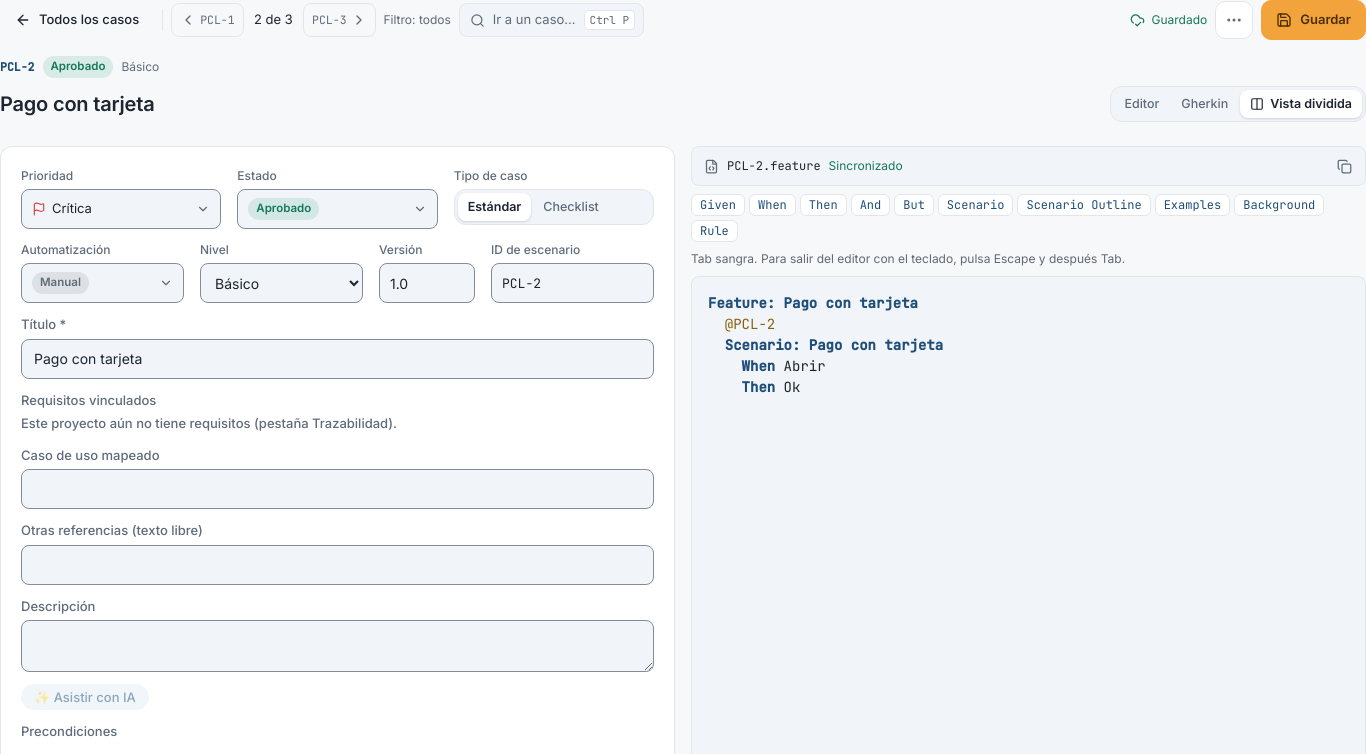
Scenario: Casos · editor navigation (RED-V3) › opens from ?case= and walks the list order
The image size is (1366, 754).
expect the text "2 de 3" is shown: met, box [254,11,293,27]
expect the heading "Pago con tarjeta" is shown: met, box [0,92,154,116]
Step 1. Click the button with aria-label "Caso siguiente" → (339, 20), box [303,3,376,37]
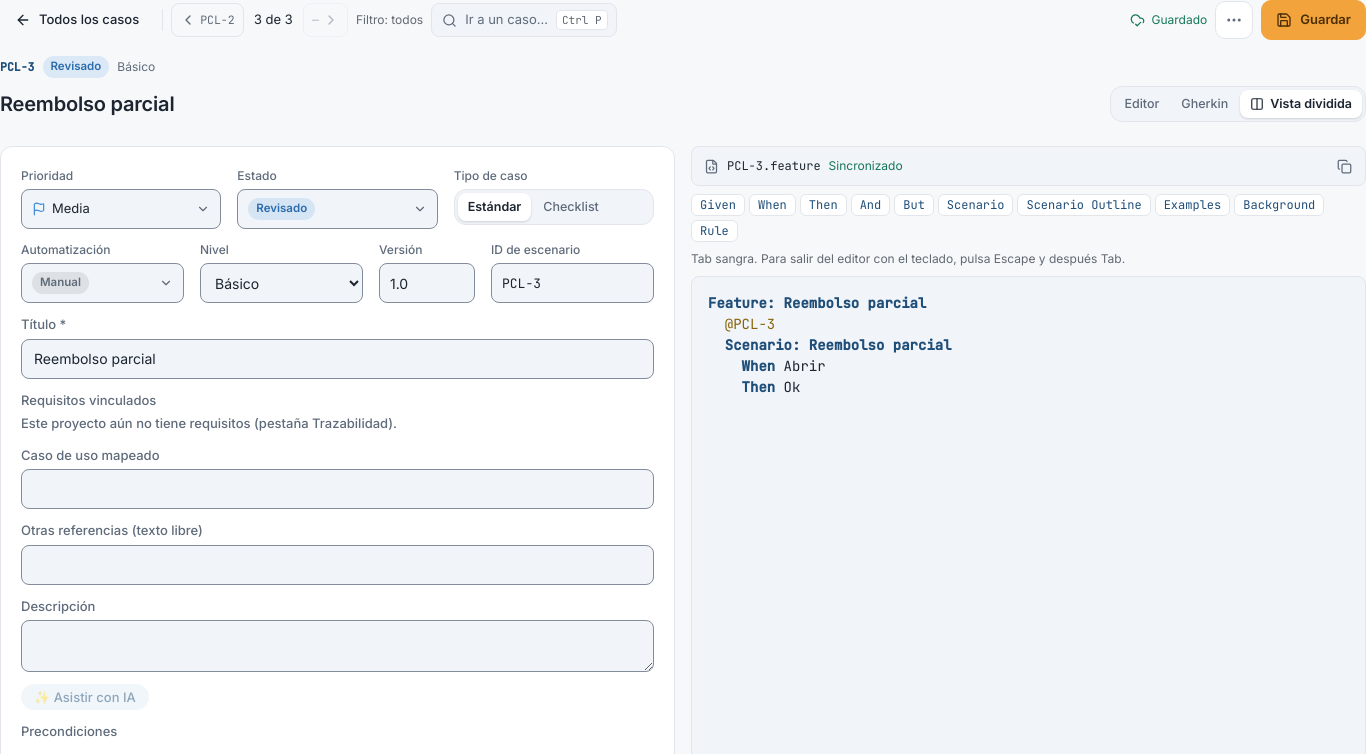
expect the heading "Reembolso parcial" is shown: met, box [0,92,174,116]
Step 2. Click the button "Todos los casos" → (77, 20), box [0,0,154,40]
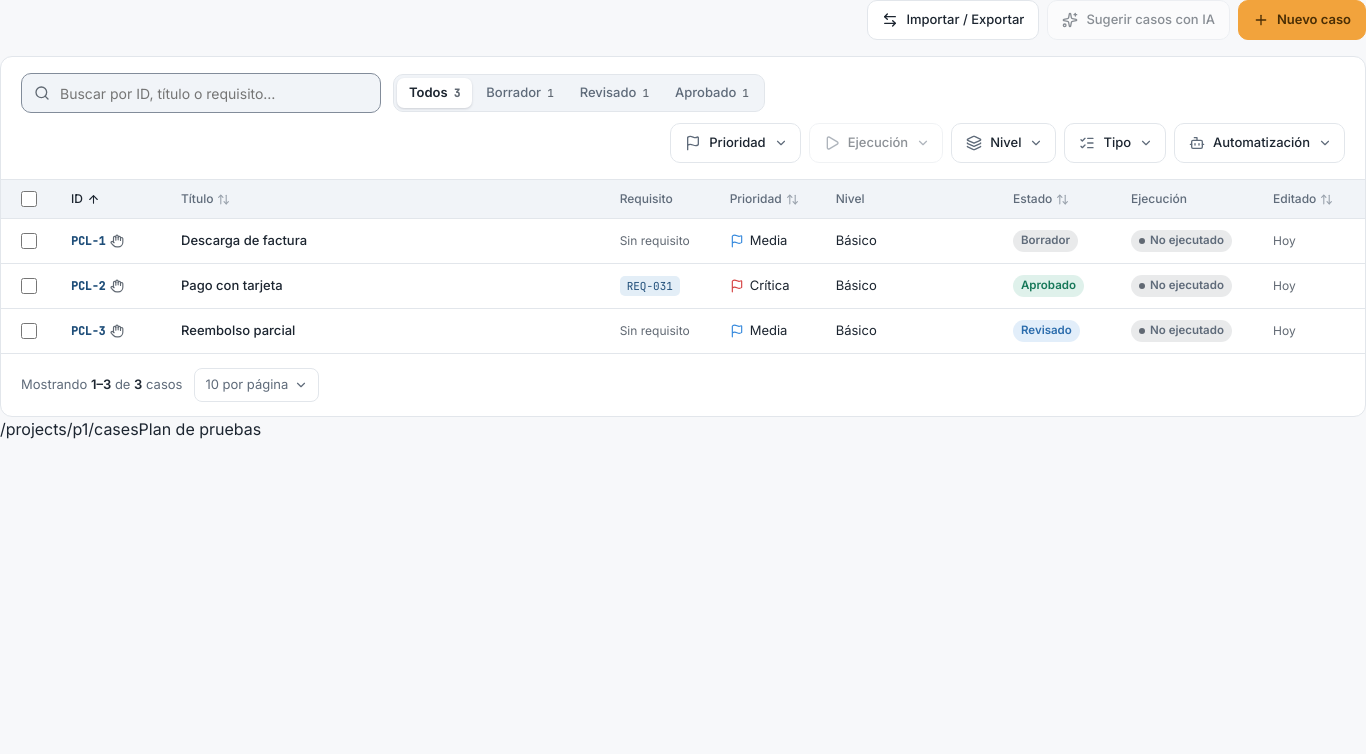
expect the table is shown: met, box [1,179,1365,354]
